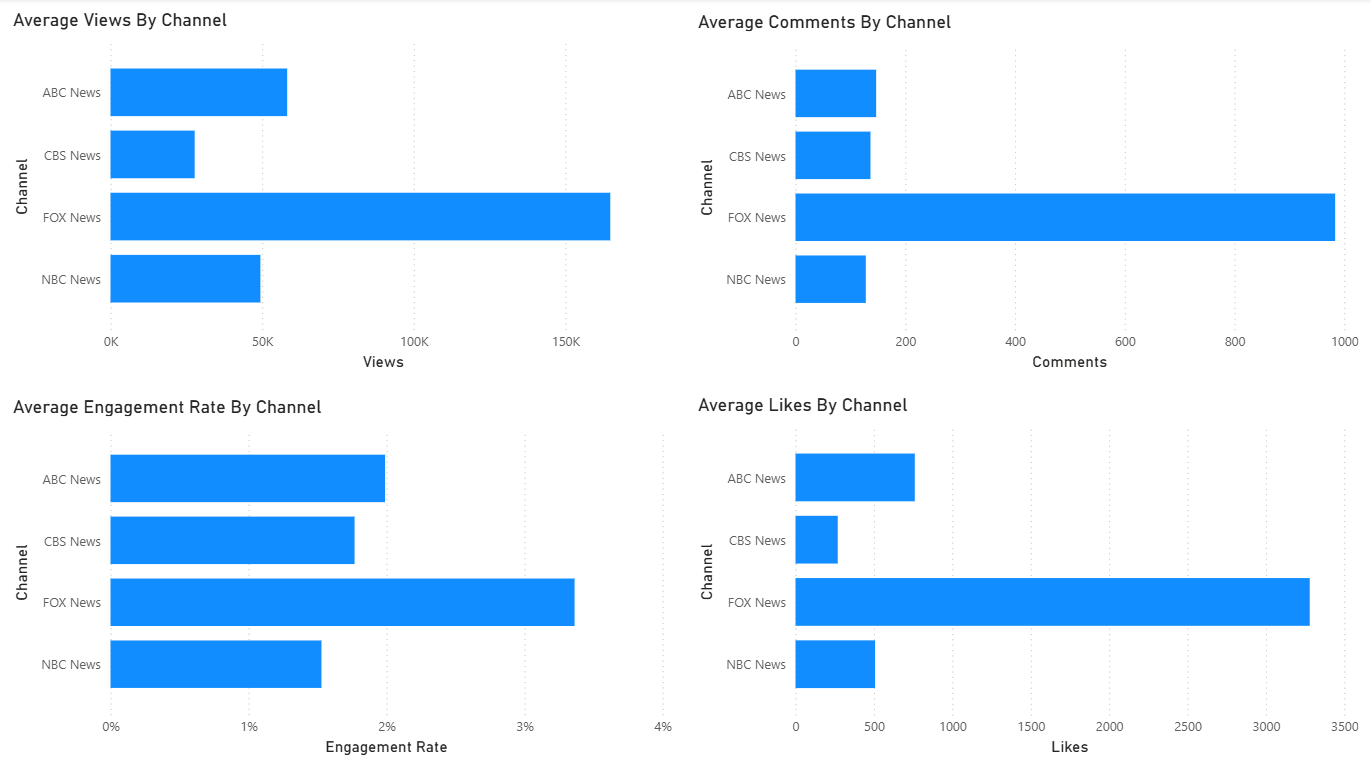

This screenshot's page, from the dashboard's own definition file:
{"tool":"powerbi","page":{"name":"Channel Comparison","canvas":[1280,720],"ordinal":1},"visuals":[{"type":"clusteredBarChart","title":"Average Views By Channel","fields":{"Category":["cleaned_media_data.channel"],"Y":["Avg(cleaned_media_data.views)"]},"box":[8.3,10.8,622.5,340.8],"z":0},{"type":"clusteredBarChart","title":"Average Engagement Rate By Channel","fields":{"Y":["Avg(cleaned_media_data.engagement_rate)"],"Category":["cleaned_media_data.channel"]},"box":[8.3,370,623.3,340],"z":1000},{"type":"clusteredBarChart","title":"Average Comments By Channel","fields":{"Category":["cleaned_media_data.channel"],"Y":["Avg(cleaned_media_data.comments)"]},"box":[645.7,11.4,624.3,340],"z":2000},{"type":"clusteredBarChart","title":"Average Likes By Channel","fields":{"Y":["Avg(cleaned_media_data.likes)"],"Category":["cleaned_media_data.channel"]},"box":[645.7,368.6,624.3,341.4],"z":3000}]}

Visuals, with their boxes in screenshot pixels (x1, y1, x2, y2), scaled from the page's 1280x720 canvas onto the 1371x772 screenshot:
"Average Views By Channel" clusteredBarChart: [left=9, top=12, right=676, bottom=377]
"Average Engagement Rate By Channel" clusteredBarChart: [left=9, top=397, right=677, bottom=761]
"Average Comments By Channel" clusteredBarChart: [left=692, top=12, right=1360, bottom=377]
"Average Likes By Channel" clusteredBarChart: [left=692, top=395, right=1360, bottom=761]
